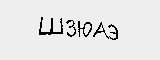Ж: (15, 23, 39, 41)
Л: (102, 21, 133, 42)
Р: (136, 21, 150, 41)
С: (86, 21, 106, 43)
Ф: (37, 23, 60, 43)
Ә: (63, 24, 86, 46)
